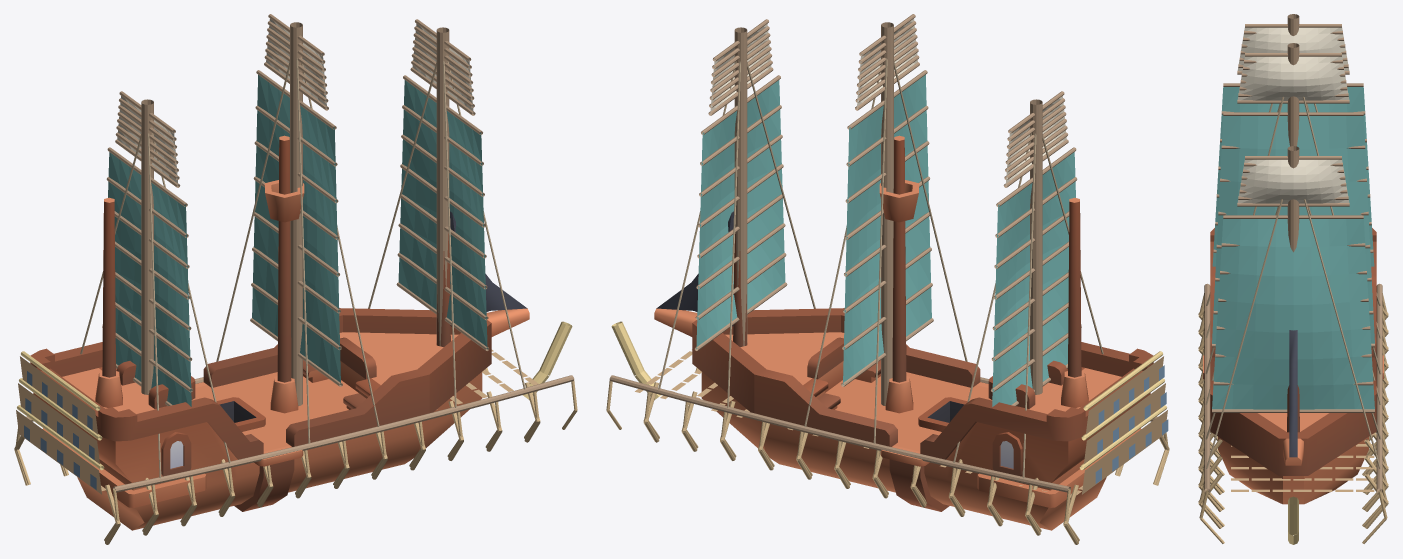
File: javanese_jong-custom.glb
3 renders of one model, left to right at view 1: azimuth 30°, elevation 25°; view 2: azimuth 150°, elevation 25°; view 3: azimuth 270°, elevation 25°, orthographic. The views are drawn at different scales.
Parts seen in each view (by area): view 1: javanese_jong-custom-geometry, ship-pirate-large; view 2: javanese_jong-custom-geometry, ship-pirate-large; view 3: javanese_jong-custom-geometry, ship-pirate-large.
Part boxes in pixels (<box>): javanese_jong-custom-geometry: <box>14,14,577,544</box>; ship-pirate-large: <box>30,135,529,530</box>; javanese_jong-custom-geometry: <box>606,14,1169,544</box>; ship-pirate-large: <box>654,135,1153,530</box>; javanese_jong-custom-geometry: <box>1198,14,1388,544</box>; ship-pirate-large: <box>1203,228,1383,504</box>.
Bounding box in the file's own units: 51.52 × 43 × 18.
Materials: 9 (1 with a texture image).
